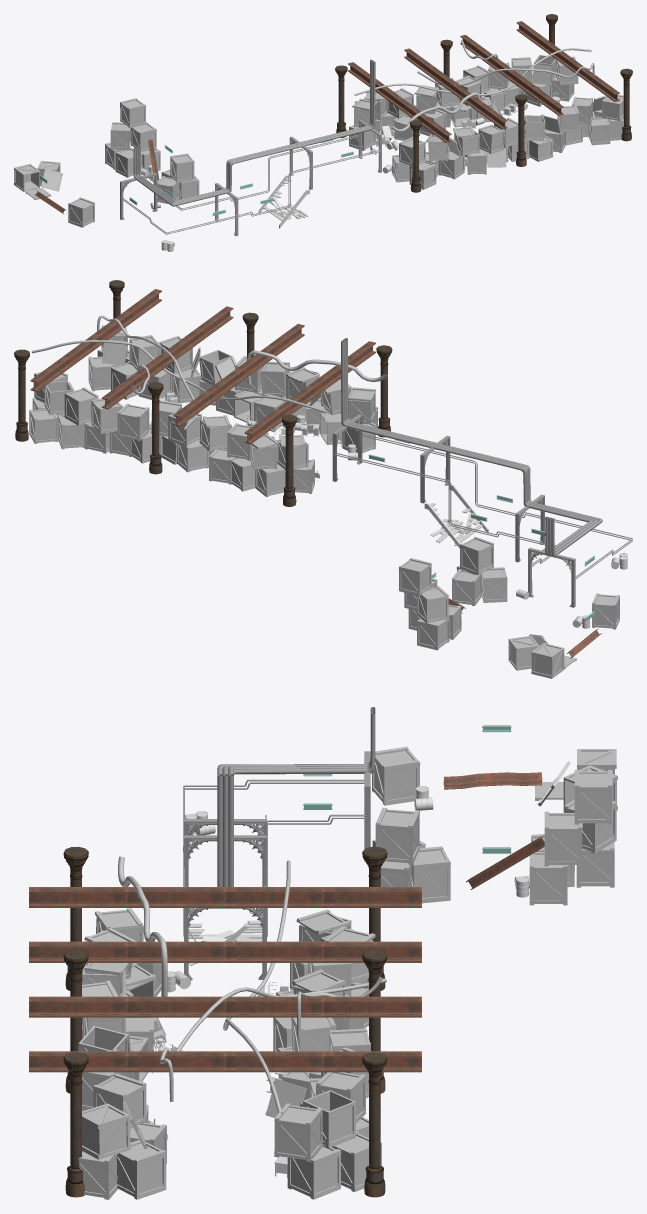
The model's file is [Grouped] Tutorial Props.fbx.
The picture shows the model from 3 angles, top to bottom: view 1: azimuth 30°, elevation 25°; view 2: azimuth 150°, elevation 25°; view 3: azimuth 270°, elevation 25°; orthographic projection. The views are drawn at different scales.
Visible parts, largest first — view 1: Box (×21), CorridorPipe, Beam5, Beam4, Beam3, Beam1, Pipe_Horizontal_Small_L4, TutorialStairs, BoxLid (×2), Pillar14, Pillar10, Pillar11 (+9 smaller); view 2: Box (×26), CorridorPipe, Beam5, Beam4, Beam3, Beam1, TutorialStairs, Pipe_Horizontal_Small_L4, Pipe_Horizontal_Small_L5, Pillar12, Pillar13, Pillar15 (+7 smaller); view 3: Box (×19), Beam3, BoxLid (×11), Beam1, Beam5, Beam4, CorridorPipe, Pillar13, Pillar10, BentBeam1, Pillar14, Wire_5_low3 (+11 smaller).
Part boxes in pixels (x1,y1,x2,y2): Box (×21): (14,81,623,227); CorridorPipe: (133,59,375,206); Beam5: (404,48,507,129); Beam4: (516,21,619,101); Beam3: (460,35,563,115); Beam1: (348,62,451,143); Pipe_Horizontal_Small_L4: (120,150,380,234); TutorialStairs: (258,175,309,228); BoxLid (×2): (41,64,551,191); Pillar14: (515,94,527,166); Pillar10: (620,68,632,141); Pillar11: (410,120,421,192); Box (×26): (29,350,619,678); CorridorPipe: (341,338,602,556); Beam5: (173,324,304,426); Beam4: (30,289,161,391); Beam3: (102,306,233,409); Beam1: (244,341,375,443); TutorialStairs: (424,484,488,548); Pipe_Horizontal_Small_L4: (362,433,632,579); Pipe_Horizontal_Small_L5: (334,452,555,566); Pillar12: (282,414,297,506); Pillar13: (14,349,29,441); Pillar15: (148,382,163,474); Box (×19): (78,749,616,1199); Beam3: (29,996,421,1017); BoxLid (×11): (93,746,612,1126); Beam1: (29,887,421,907); Beam5: (29,941,421,962); Beam4: (29,1051,421,1072); CorridorPipe: (217,707,375,886); Pillar13: (362,1052,387,1197); Pillar10: (63,1052,88,1197); BentBeam1: (443,772,542,789); Pillar14: (63,949,88,1093); Wire_5_low3: (159,978,386,1101).
Size of the model in its own units: 5498 by 1432 by 2838.
